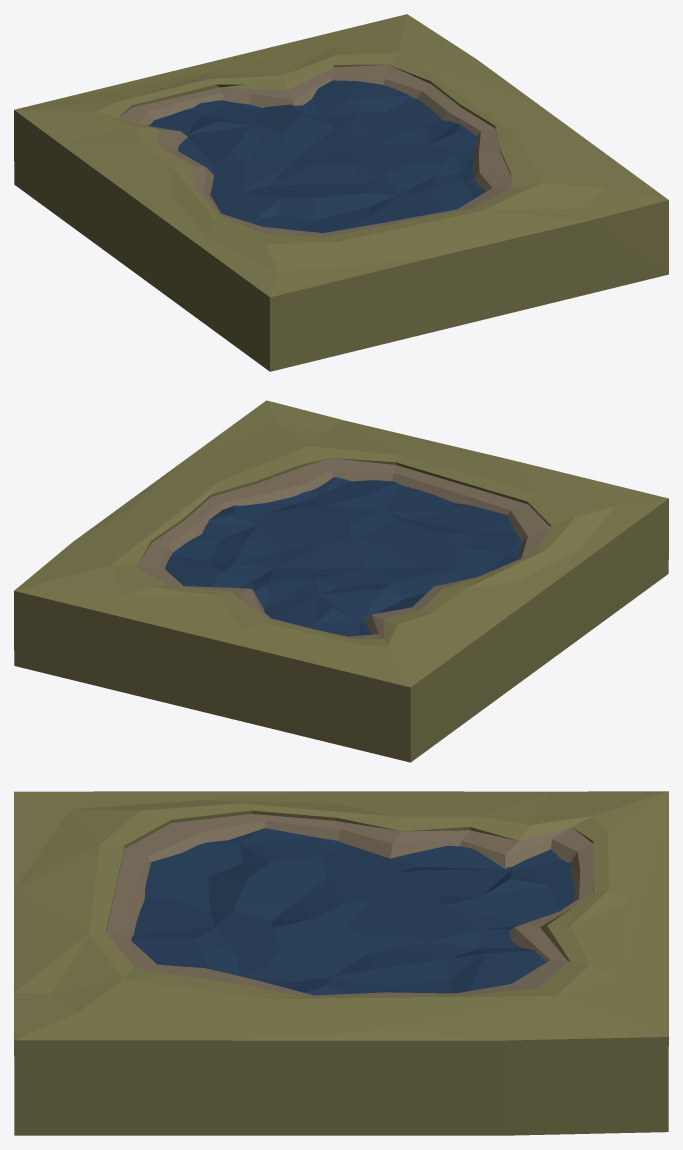
Rendered from Pond_01_B.gltf.
3 renders of one model, top to bottom at view 1: azimuth 30°, elevation 25°; view 2: azimuth 150°, elevation 25°; view 3: azimuth 270°, elevation 25°, orthographic. The views are drawn at different scales.
Visible parts, largest first — view 1: Pond_01_B, Water_01_B; view 2: Pond_01_B, Water_01_B; view 3: Pond_01_B, Water_01_B.
Boxes of the visible parts, x1,y1,x2,y2 form: Pond_01_B: [14, 14, 668, 371]; Water_01_B: [148, 80, 486, 232]; Pond_01_B: [14, 400, 668, 762]; Water_01_B: [165, 477, 521, 636]; Pond_01_B: [14, 791, 668, 1135]; Water_01_B: [131, 828, 575, 995].
Bounding box in the file's own units: 3.6 × 0.6997 × 4.
